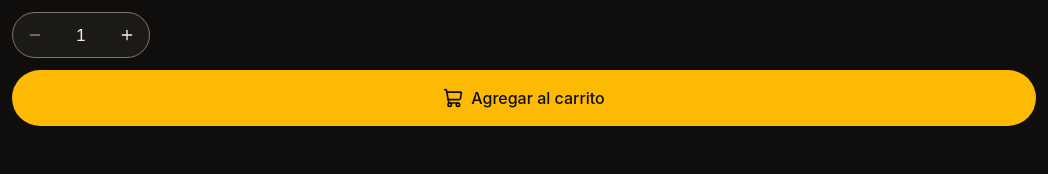
Scenario: PurchaseForm › posts the SKU and the quantity to the cart action and announces its answer
Click the 2nd button named "Aumentar cantidad".
click(127, 35)  # box x1=105 y1=13 x2=149 y2=57
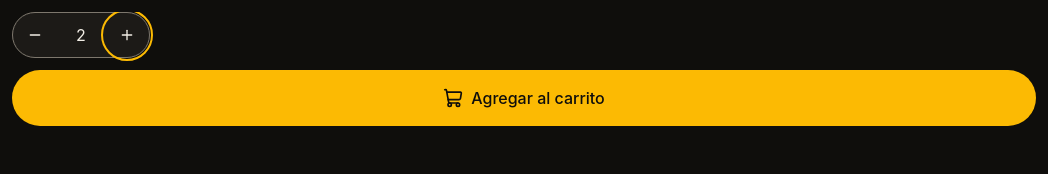
Click the button "Agregar al carrito".
click(524, 98)  # box x1=12 y1=70 x2=1036 y2=126
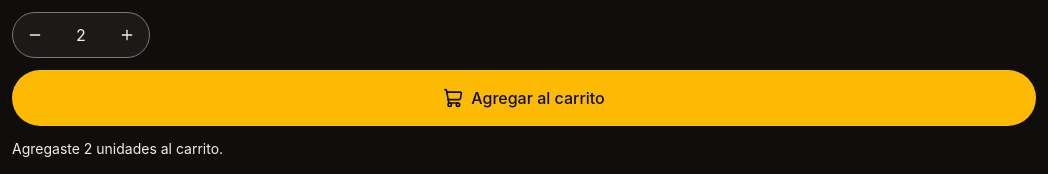
Expected: the message reads "Agregaste 2 unidades al carrito.", x1=12 y1=140 x2=223 y2=157
